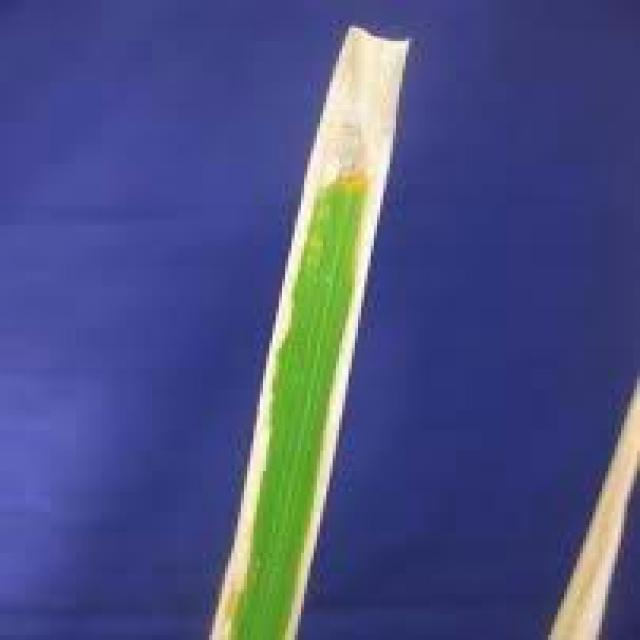Rice_Bacterial_Blight: (196, 20, 415, 632)
